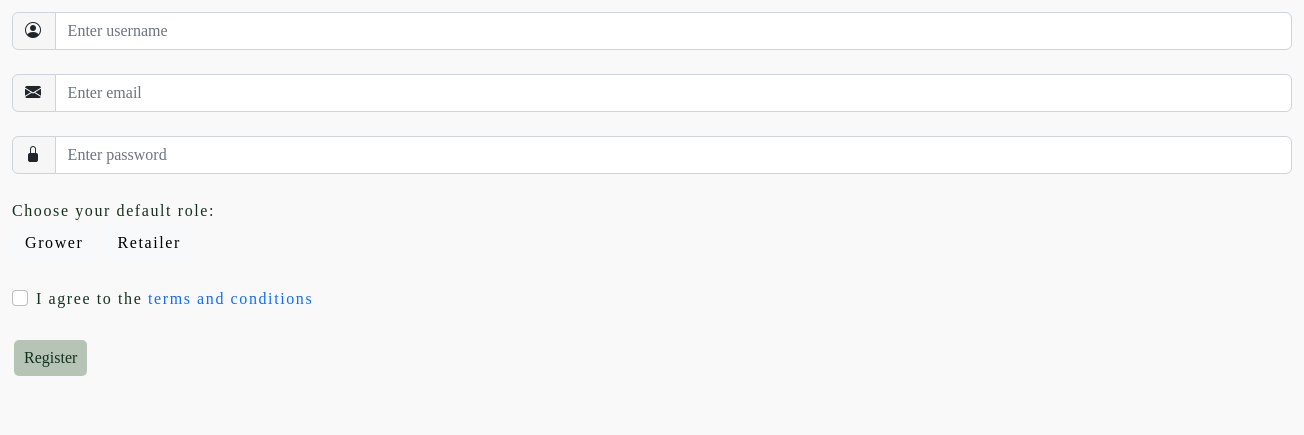
Test: shows error message after submit if email is already in use
Type "testuser" into the field with placeholder "Enter username" at (673, 31), box [55,12,1292,50]
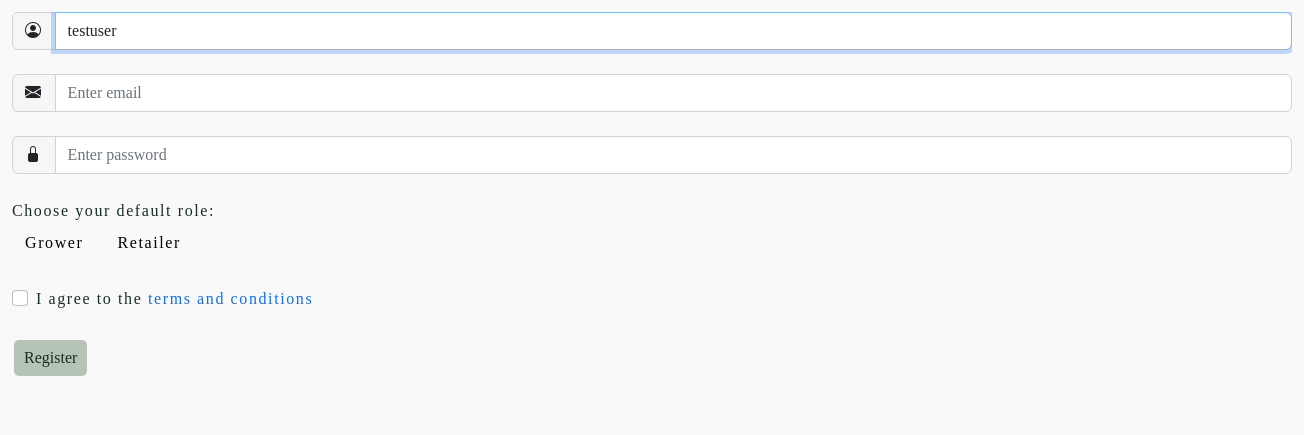
Type "testpassword" into the password field with placeholder "Enter password" at (673, 155), box [55,136,1292,174]
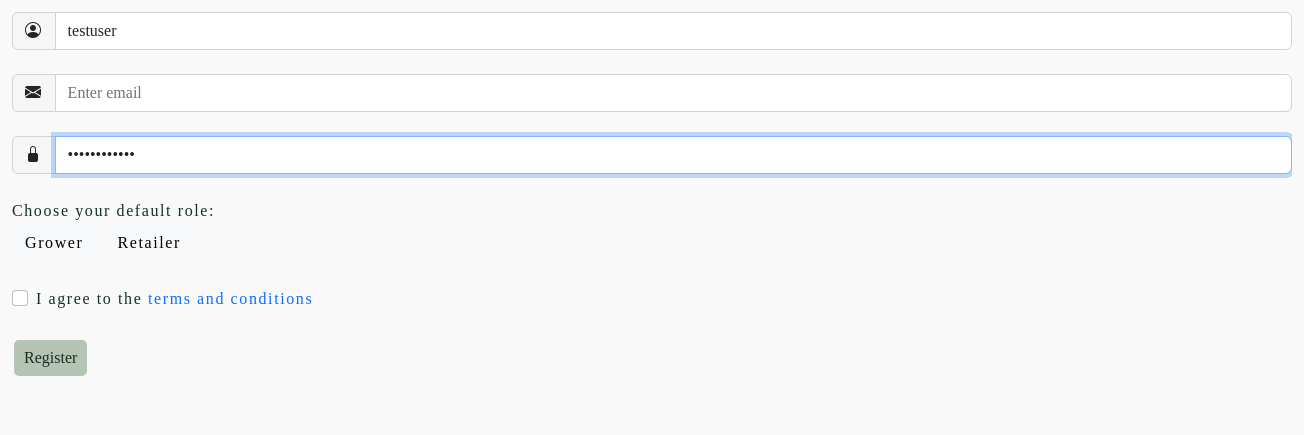
Type "testemail@email.com" into the field with placeholder "Enter email" at (673, 93), box [55,74,1292,112]
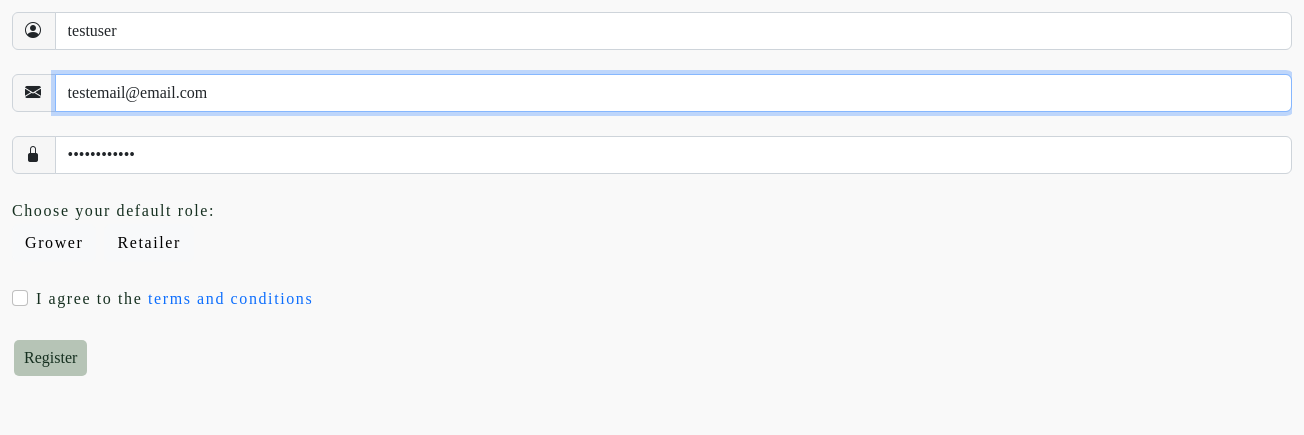
Click the radio button labelled "Grower" at (18, 230), box [12,224,25,237]
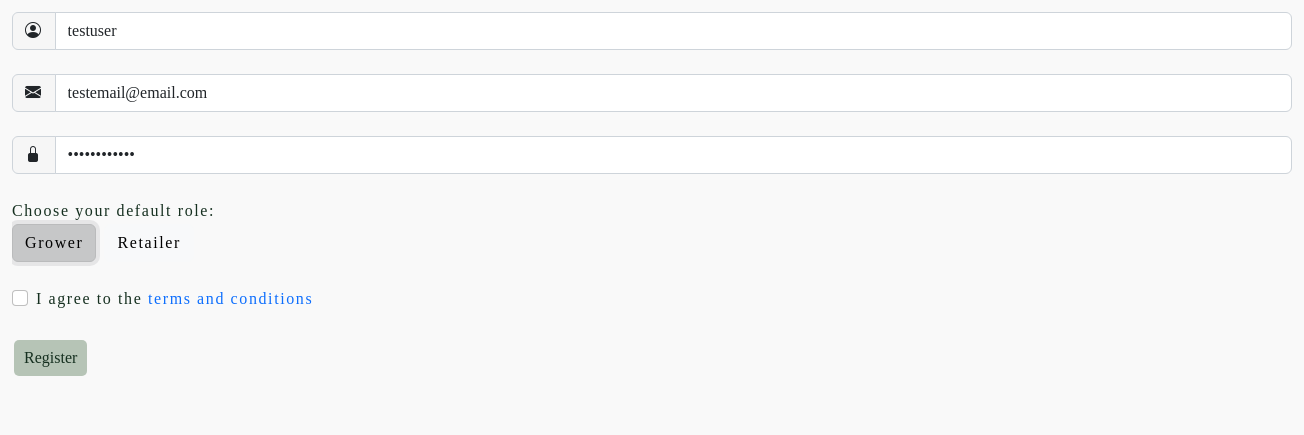
Click the checkbox labelled "I agree to the terms and conditions" at (20, 298), box [12,290,28,306]
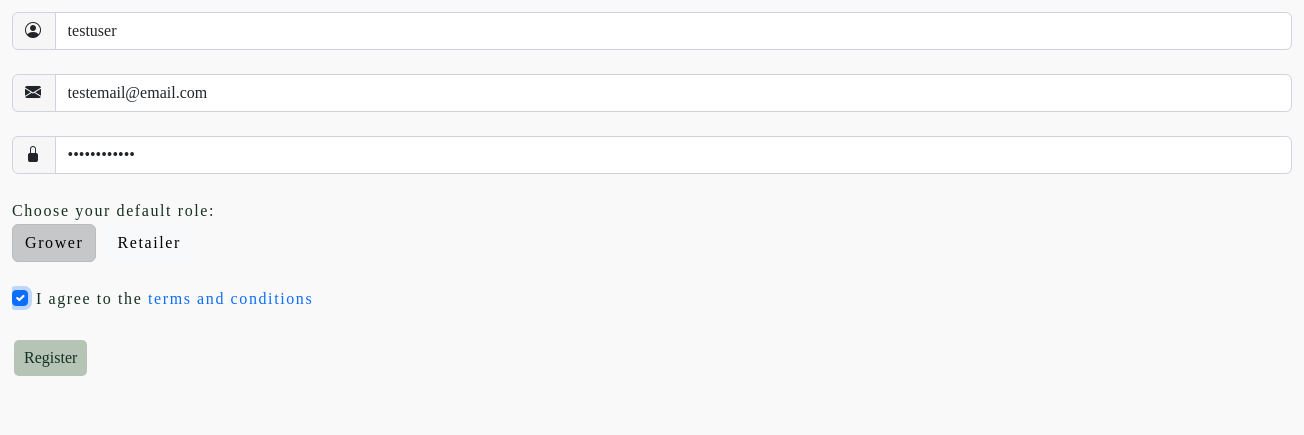
Click the button "Register" at (51, 358), box [14,340,87,376]
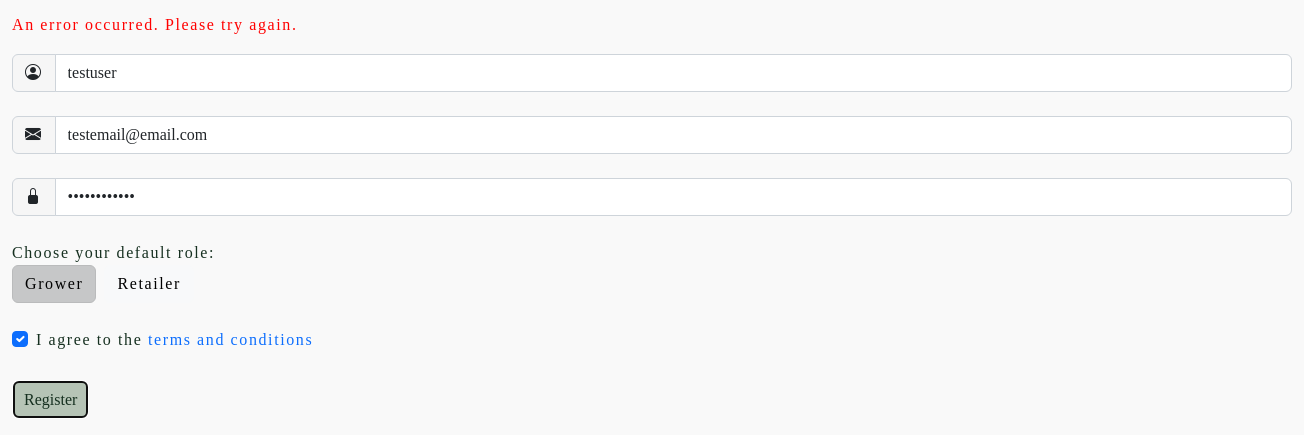
Expected: the text "An error occurred. Please try again." is shown, [12,16,298,33]
